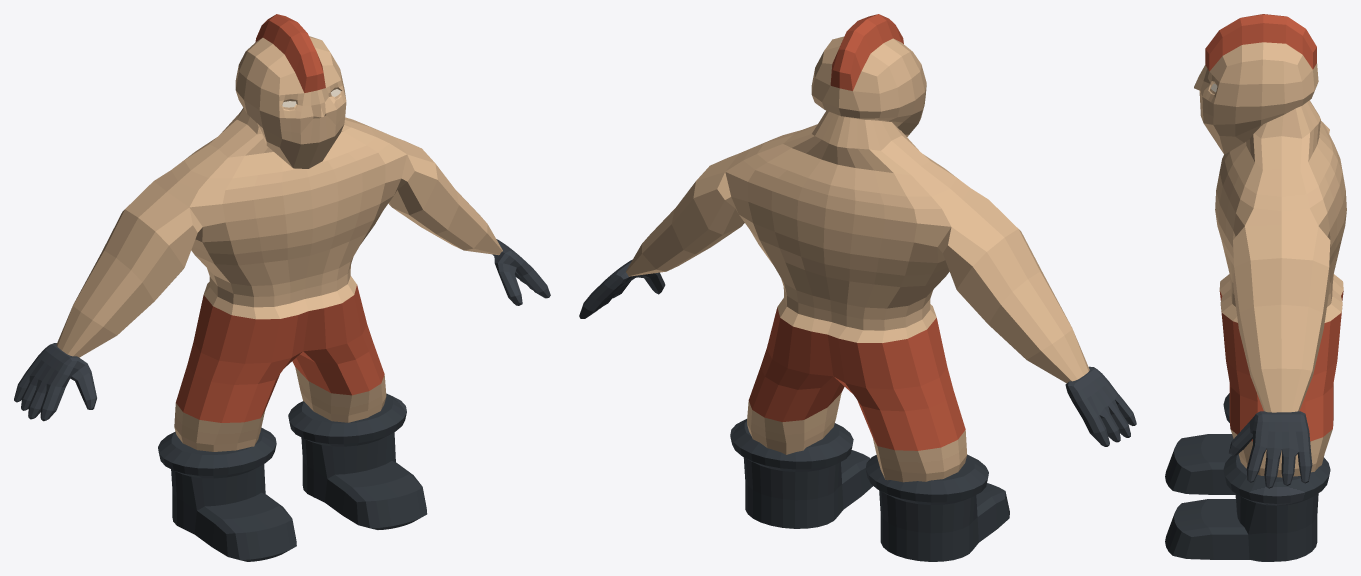
File: Barb.fbx
The picture shows the model from 3 angles, left to right: view 1: azimuth 30°, elevation 25°; view 2: azimuth 150°, elevation 25°; view 3: azimuth 270°, elevation 25°; orthographic projection. The views are drawn at different scales.
Parts seen in each view (by area): view 1: Barb; view 2: Barb; view 3: Barb.
Part boxes in pixels (x1,y1,x2,y2): Barb: (14,14,550,561); Barb: (579,14,1136,561); Barb: (1165,14,1346,561).
Bounding box in the file's own units: 6.05 × 5.48 × 1.81.
